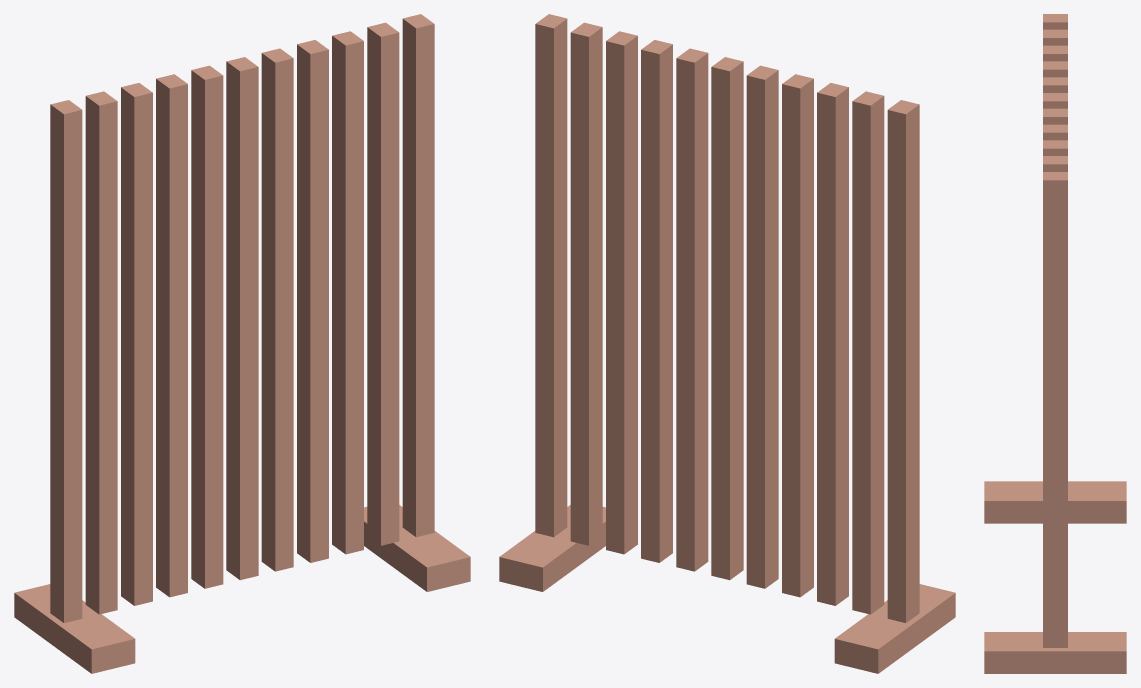
3 renders of one model, left to right at view 1: azimuth 30°, elevation 25°; view 2: azimuth 150°, elevation 25°; view 3: azimuth 270°, elevation 25°, orthographic. The views are drawn at different scales.
Visible parts, largest first — view 1: Warm timber slat.006, Warm timber slat.005, Warm timber slat.001, Warm timber slat.004, Warm timber slat, Warm timber slat.010, Warm timber slat.009, Warm timber slat.003, Warm timber slat.007, Warm timber slat.008, Warm timber slat.002, Wood screen foot (+1 smaller); view 2: Warm timber slat.006, Warm timber slat.005, Warm timber slat.001, Warm timber slat.004, Warm timber slat, Warm timber slat.010, Warm timber slat.009, Warm timber slat.003, Warm timber slat.007, Warm timber slat.008, Warm timber slat.002, Wood screen foot (+1 smaller); view 3: Warm timber slat.010, Wood screen foot.001, Wood screen foot, Warm timber slat.001, Warm timber slat.002, Warm timber slat.003, Warm timber slat.006, Warm timber slat.007, Warm timber slat, Warm timber slat.004, Warm timber slat.005, Warm timber slat.008 (+1 smaller).
Boxes of the visible parts, left/top/right/bottom form: Warm timber slat.006: left=261, top=48, right=293, bottom=571; Warm timber slat.005: left=226, top=57, right=258, bottom=580; Warm timber slat.001: left=85, top=91, right=117, bottom=614; Warm timber slat.004: left=191, top=65, right=223, bottom=588; Warm timber slat: left=50, top=100, right=82, bottom=622; Warm timber slat.010: left=402, top=14, right=434, bottom=537; Warm timber slat.009: left=367, top=22, right=399, bottom=545; Warm timber slat.003: left=156, top=74, right=187, bottom=597; Warm timber slat.007: left=297, top=40, right=328, bottom=562; Warm timber slat.008: left=332, top=31, right=363, bottom=554; Warm timber slat.002: left=121, top=83, right=152, bottom=605; Wood screen foot: left=14, top=584, right=135, bottom=673; Warm timber slat.006: left=676, top=48, right=708, bottom=571; Warm timber slat.005: left=711, top=57, right=743, bottom=580; Warm timber slat.001: left=852, top=91, right=884, bottom=614; Warm timber slat.004: left=746, top=65, right=778, bottom=588; Warm timber slat: left=887, top=100, right=919, bottom=622; Warm timber slat.010: left=535, top=14, right=567, bottom=537; Warm timber slat.009: left=570, top=22, right=602, bottom=545; Warm timber slat.003: left=782, top=74, right=813, bottom=597; Warm timber slat.007: left=641, top=40, right=672, bottom=562; Warm timber slat.008: left=606, top=31, right=637, bottom=554; Warm timber slat.002: left=817, top=83, right=848, bottom=605; Wood screen foot: left=834, top=584, right=955, bottom=673; Warm timber slat.010: left=1043, top=172, right=1067, bottom=647; Wood screen foot.001: left=984, top=632, right=1126, bottom=673; Wood screen foot: left=984, top=481, right=1126, bottom=523; Warm timber slat.001: left=1043, top=29, right=1067, bottom=45; Warm timber slat.002: left=1043, top=45, right=1067, bottom=61; Warm timber slat.003: left=1043, top=61, right=1067, bottom=77; Warm timber slat.006: left=1043, top=108, right=1067, bottom=124; Warm timber slat.007: left=1043, top=124, right=1067, bottom=140; Warm timber slat: left=1043, top=14, right=1067, bottom=29; Warm timber slat.004: left=1043, top=77, right=1067, bottom=92; Warm timber slat.005: left=1043, top=93, right=1067, bottom=108; Warm timber slat.008: left=1043, top=140, right=1067, bottom=155.
Size of the model in its own units: 1.13 by 1.53 by 0.4.
Materials: 1 (1 with a texture image).
